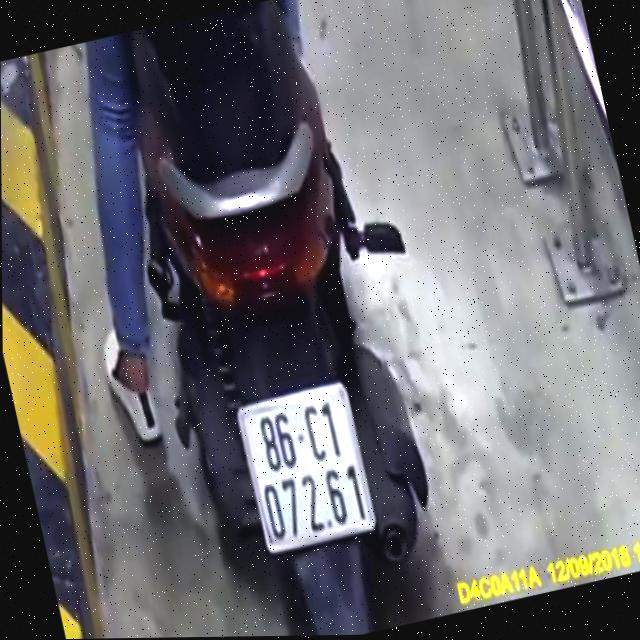motorcycle: (97, 1, 491, 639)
plate: (232, 376, 383, 558)
